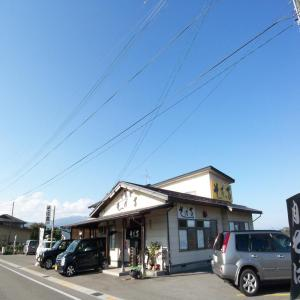Vehicle-registration-plate: (216, 256, 219, 263), (56, 266, 58, 269)
